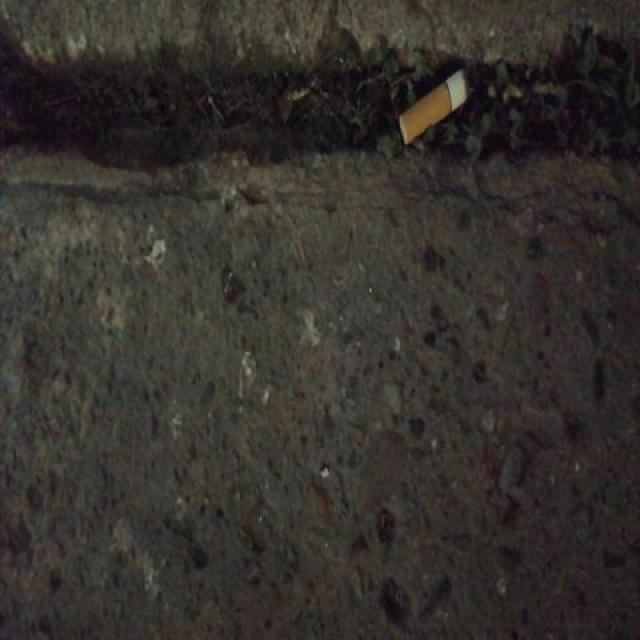non-organic waste: (394, 63, 477, 153)
